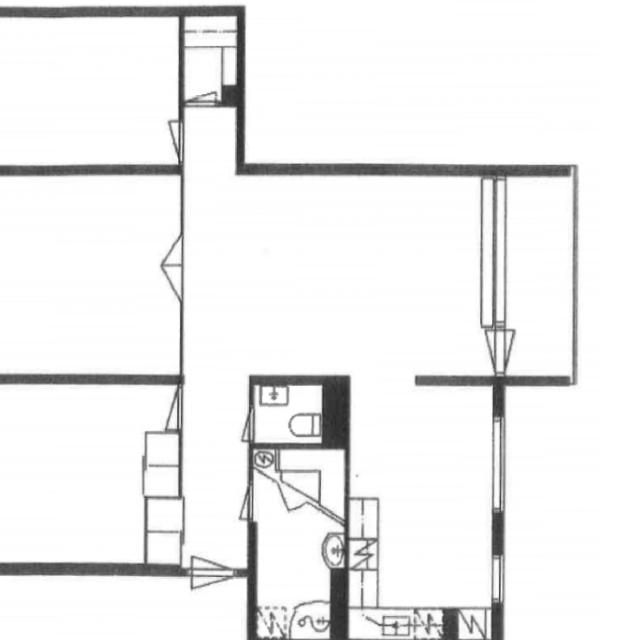door: (262, 479, 308, 531), (192, 519, 235, 574), (192, 567, 235, 622), (454, 328, 506, 372), (494, 328, 546, 372), (138, 385, 183, 430), (142, 121, 184, 162), (148, 232, 184, 267), (218, 484, 255, 518), (148, 267, 184, 301), (219, 407, 254, 440), (188, 70, 218, 106)
